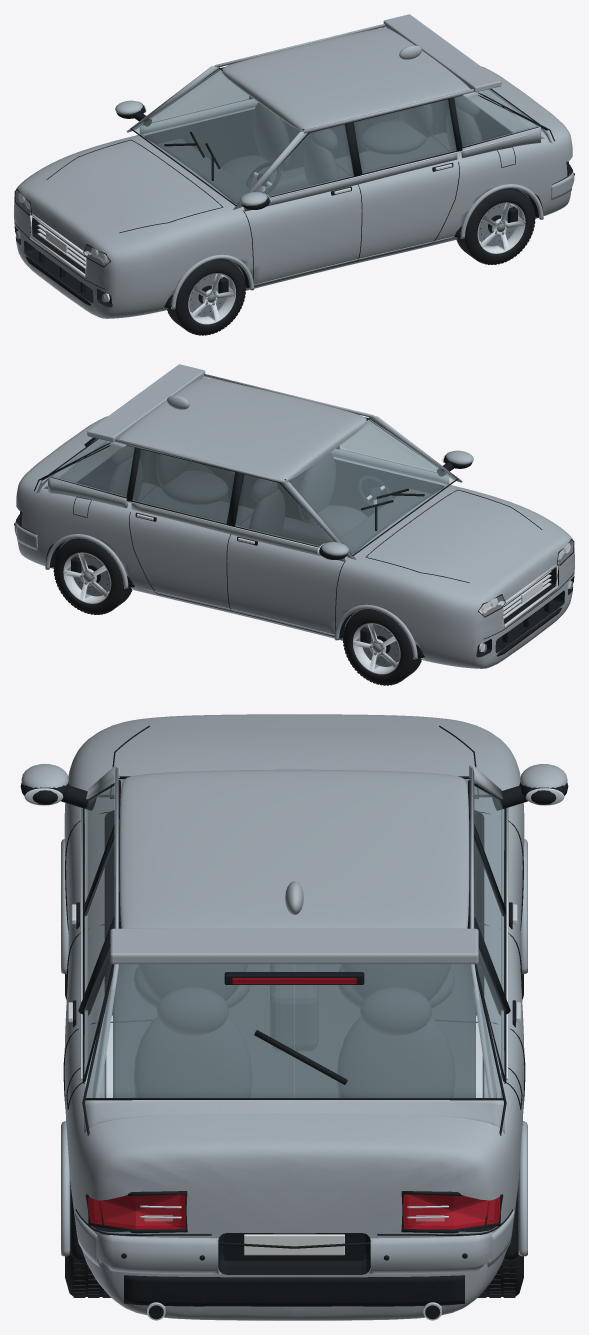
Rendered from innerscene-compact-hatchback-cc0.glb.
3 renders of one model, top to bottom at view 1: azimuth 30°, elevation 25°; view 2: azimuth 150°, elevation 25°; view 3: azimuth 270°, elevation 25°, orthographic. The views are drawn at different scales.
Visible parts, largest first — view 1: Watertight 14-station body shell, Crowned roof pressing, Raked laminated windshield, Rear side door glass, Front side door glass, Roof spoiler lip, Rear quarter glass, 107 reused Sculpted_tyre.002, 107 reused Sculpted_tyre, Front side door glass.001, Cabin carpet, Instrument panel (+25 smaller); view 2: Watertight 14-station body shell, Crowned roof pressing, Raked laminated windshield, Rear side door glass.001, Front side door glass.001, Roof spoiler lip, Rear quarter glass.001, 107 reused Sculpted_tyre.003, 107 reused Sculpted_tyre.001, Front side door glass, Cabin carpet, Instrument panel (+25 smaller); view 3: Watertight 14-station body shell, Crowned roof pressing, Tailgate rear glazing, Cabin carpet, Roof spoiler lip, Sculpted rear lower bumper insert, Formed painted rear bumper cover, Contoured seat back.002, Contoured seat back.003, Painted rear glazing lower surround, Center console, Flush corner wrapping ruby lamp lens.001 (+37 smaller).
Part boxes in pixels (x1,y1,x2,y2): Watertight 14-station body shell: (14,66,572,318); Crowned roof pressing: (221,28,470,131); Raked laminated windshield: (133,69,302,204); Rear side door glass: (354,99,456,173); Front side door glass: (256,124,353,196); Roof spoiler lip: (383,14,501,92); Rear quarter glass: (454,95,539,146); 107 reused Sculpted_tyre.002: (457,189,534,264); 107 reused Sculpted_tyre: (168,259,245,334); Front side door glass.001: (151,70,249,122); Cabin carpet: (229,132,529,268); Instrument panel: (157,138,249,203); Watertight 14-station body shell: (16,416,574,668); Crowned roof pressing: (118,378,367,481); Raked laminated windshield: (286,419,455,554); Rear side door glass.001: (132,449,234,523); Front side door glass.001: (235,474,332,546); Roof spoiler lip: (87,364,205,442); Rear quarter glass.001: (49,445,134,496); 107 reused Sculpted_tyre.003: (54,538,130,614); 107 reused Sculpted_tyre.001: (343,609,420,684); Front side door glass: (339,420,437,472); Cabin carpet: (59,482,359,618); Instrument panel: (339,488,431,553); Watertight 14-station body shell: (64,714,524,1320); Crowned roof pressing: (119,769,469,928); Tailgate rear glazing: (86,964,502,1097); Cabin carpet: (113,964,475,1097); Roof spoiler lip: (110,928,478,964); Sculpted rear lower bumper insert: (124,1275,464,1306); Formed painted rear bumper cover: (96,1231,492,1274); Contoured seat back.002: (133,1016,252,1097); Contoured seat back.003: (337,1016,455,1097); Painted rear glazing lower surround: (84,1100,504,1133); Center console: (270,964,318,1051); Flush corner wrapping ruby lamp lens.001: (403,1194,500,1229).
Bounding box in the file's own units: 4.26 × 1.59 × 2.12.
10 materials, 10 textured.
